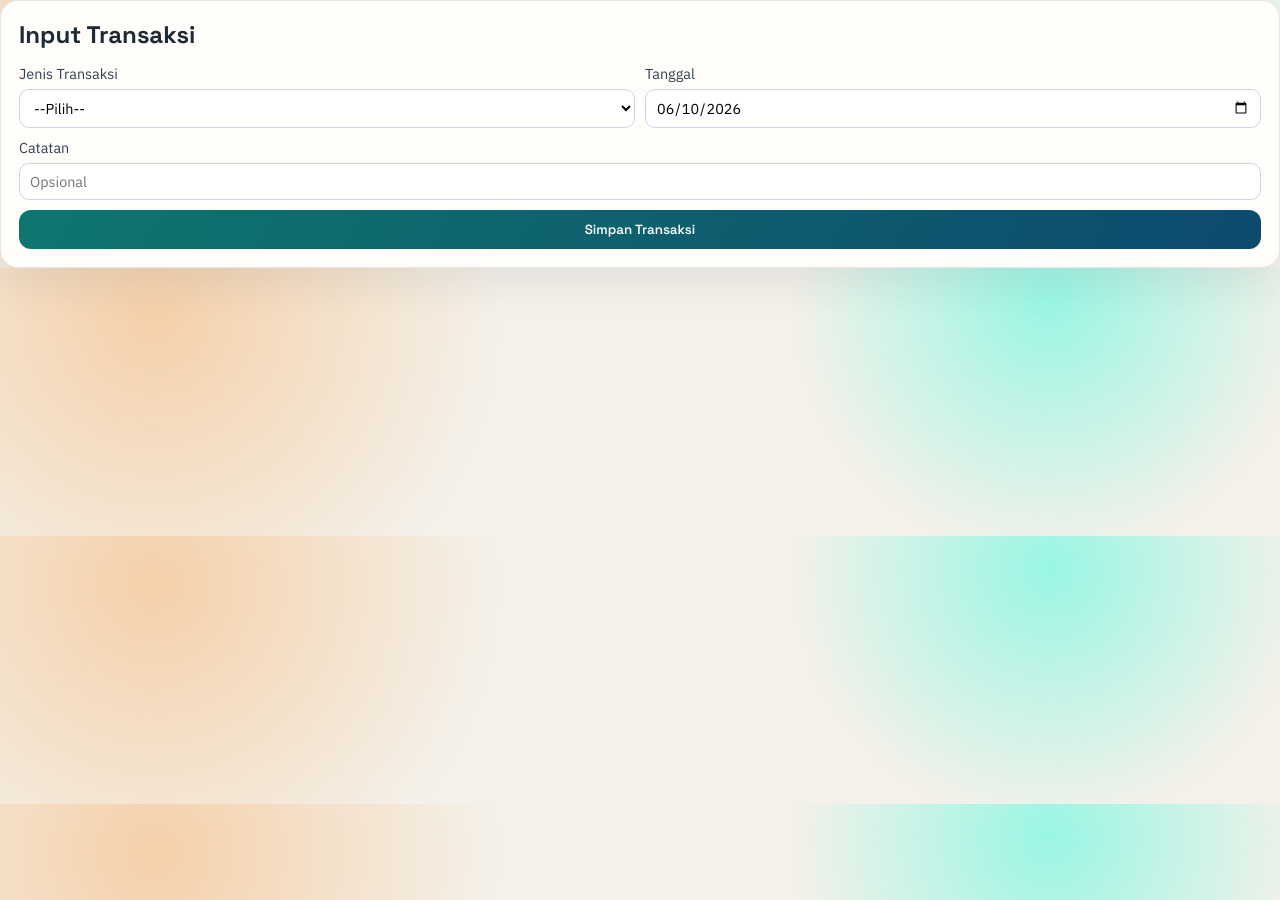
Test case: TransactionForm › shows error feedback and keeps form values when submit fails
Select "Topup" in the dropdown labelled "Jenis Transaksi" at (327, 108), box [19,89,635,128]
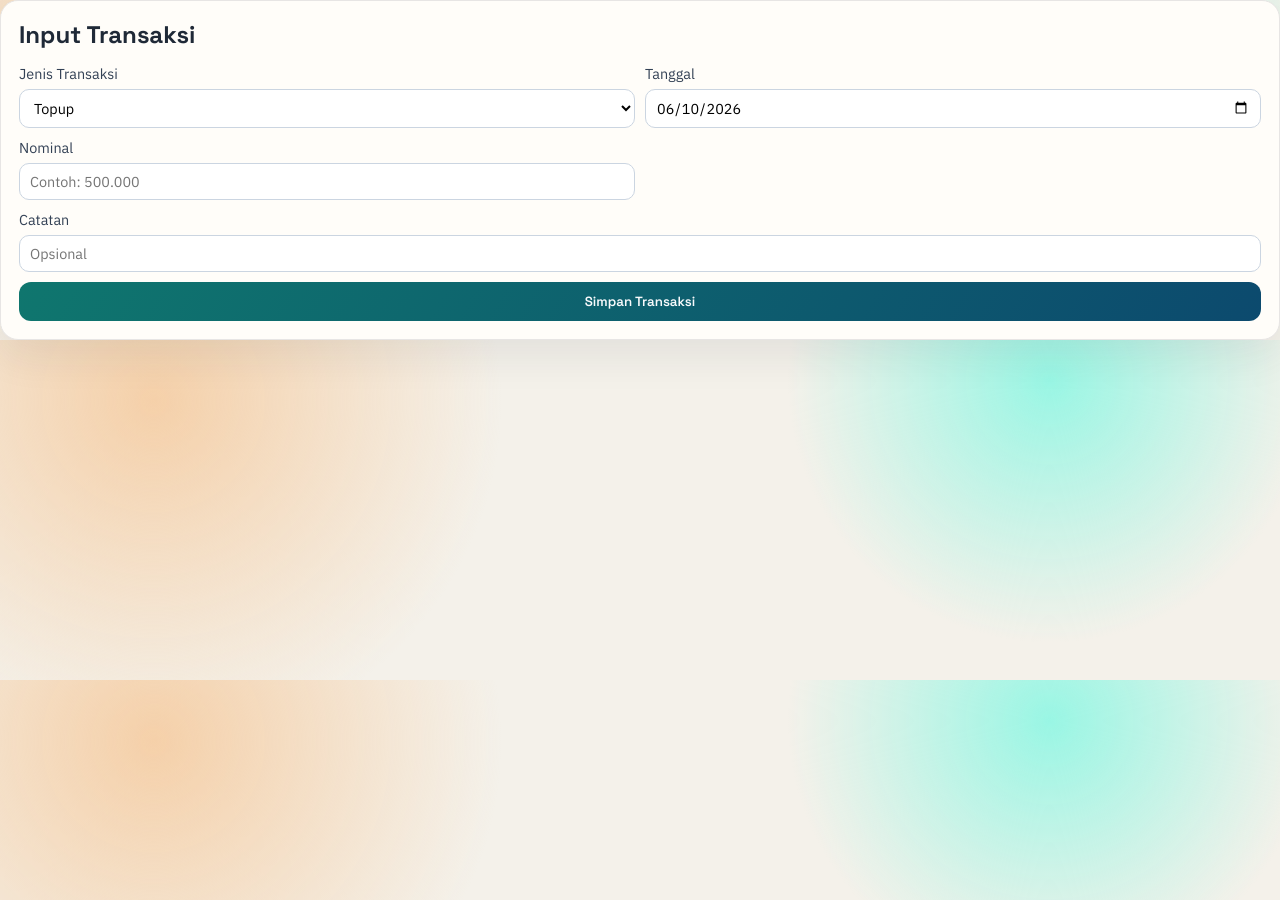
Type "1250000" into the field labelled "Nominal" at (327, 182), box [19,163,635,200]
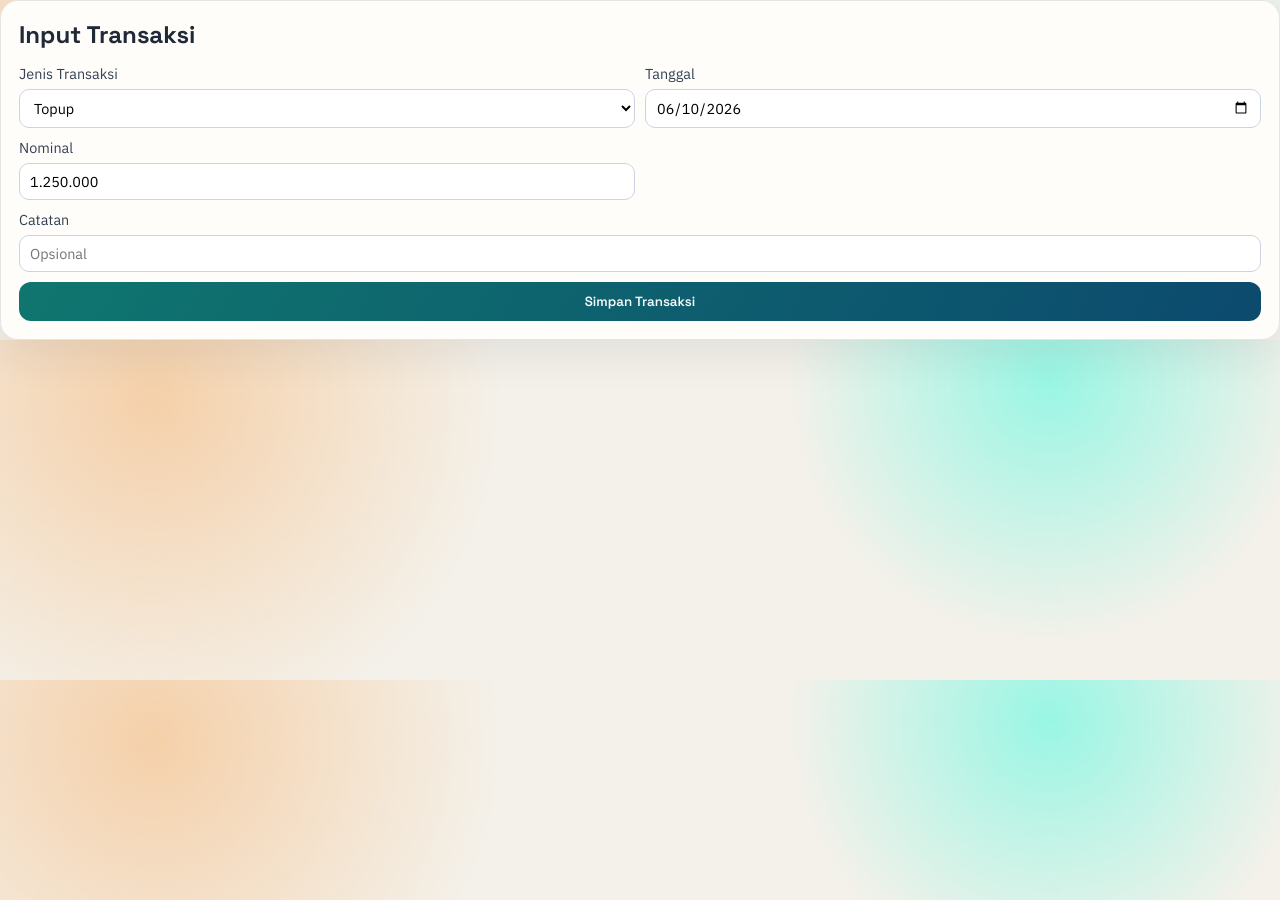
Type "Setor dana" into the field labelled "Catatan" at (640, 254), box [19,235,1261,272]
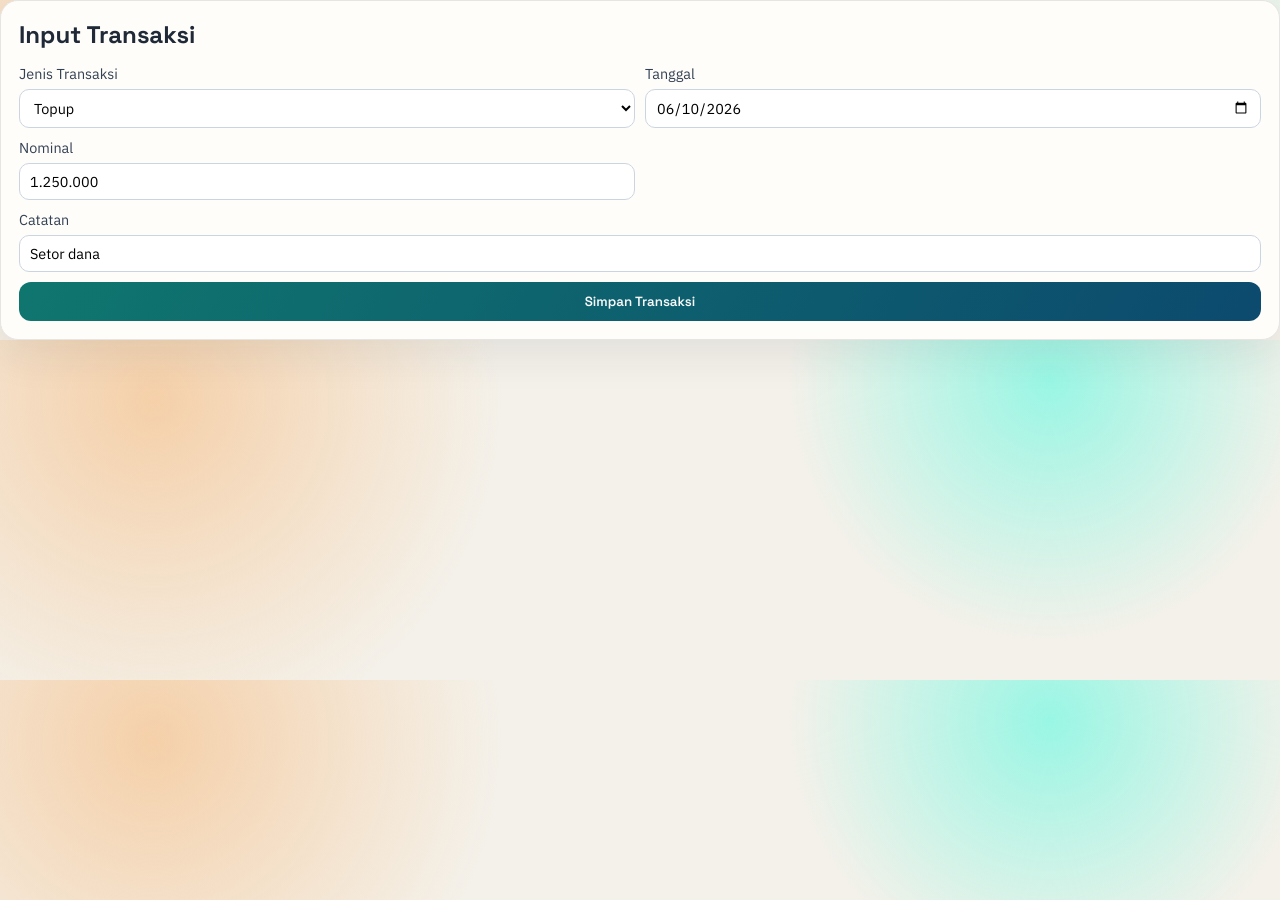
Click the button "Simpan Transaksi" at (640, 302), box [19,282,1261,321]
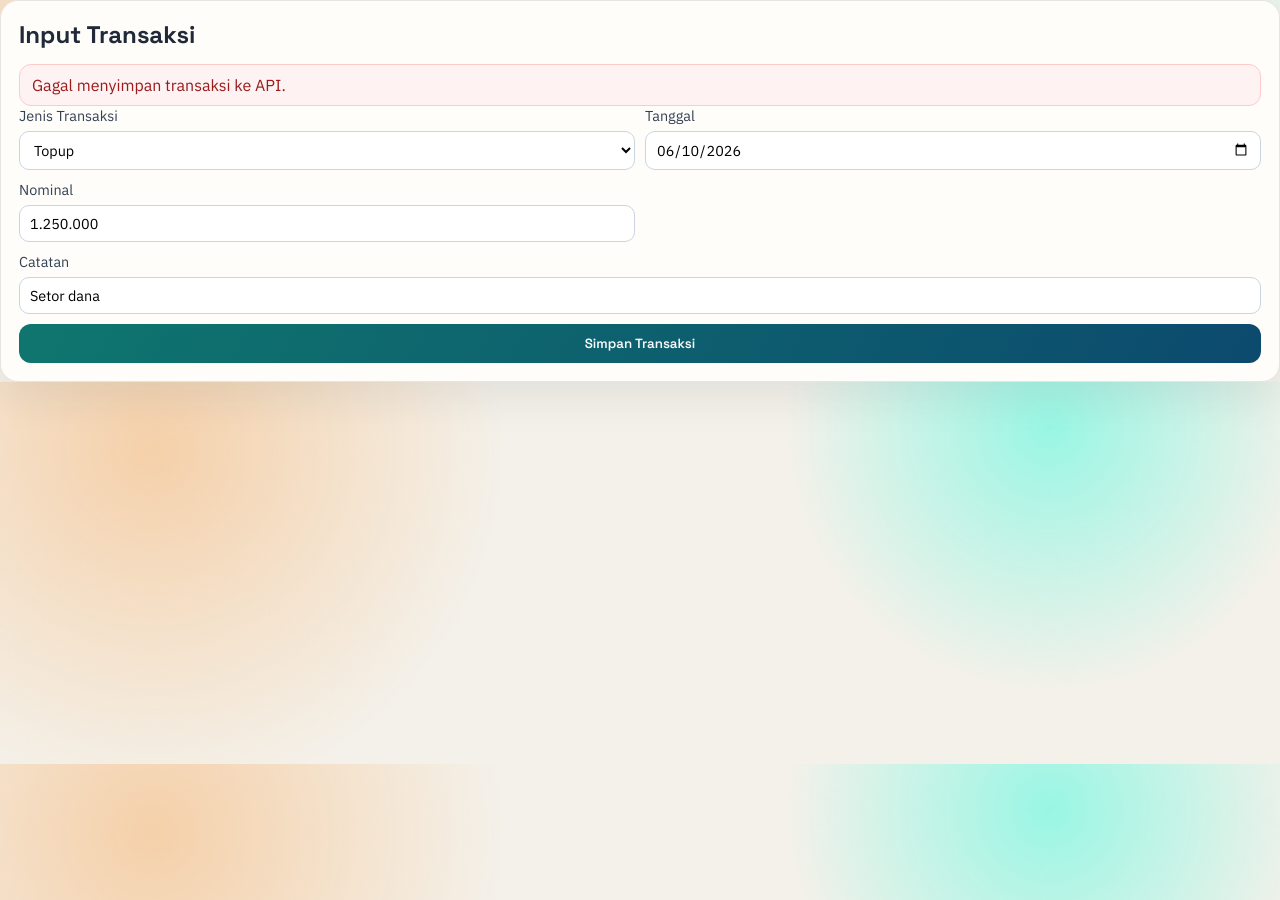
Now the field labelled "Nominal" holds "1.250.000", box [19,205,635,242]
Now the text "Gagal menyimpan transaksi ke API." is shown, box [19,64,1261,106]
